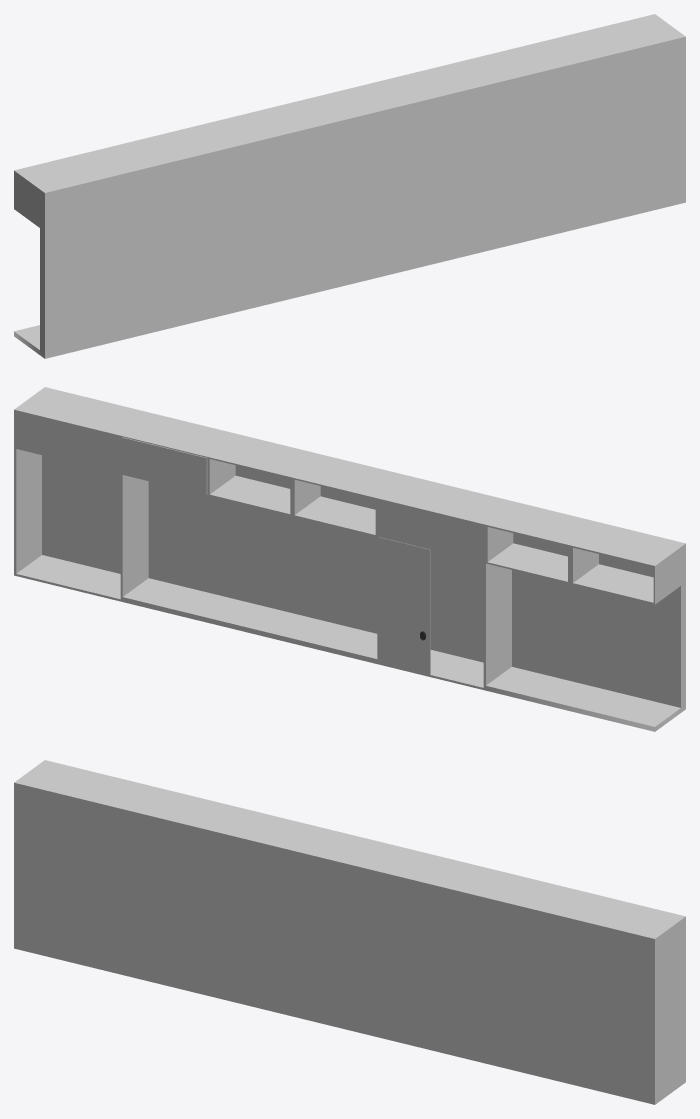
The model's file is Cupboard.fbx.
3 renders of one model, top to bottom at view 1: azimuth 30°, elevation 25°; view 2: azimuth 150°, elevation 25°; view 3: azimuth 330°, elevation 25°, orthographic.
Visible parts, largest first — view 1: Cupboard_1, Cupboard_2; view 2: Cupboard_1, Cupboard_2, Cupboard_door_2, Cupboard_door_1; view 3: Cupboard_1, Cupboard_2.
Boxes of the visible parts, x1,y1,x2,y2 form: Cupboard_1: (183, 14, 685, 317); Cupboard_2: (14, 129, 213, 358); Cupboard_1: (14, 387, 516, 690); Cupboard_2: (486, 502, 685, 731); Cupboard_door_2: (379, 537, 430, 676); Cupboard_door_1: (122, 437, 207, 494); Cupboard_1: (183, 801, 685, 1104); Cupboard_2: (14, 760, 213, 989).
Size of the model in its own units: 1213 by 300 by 106.
Materials: 2 (1 with a texture image).
